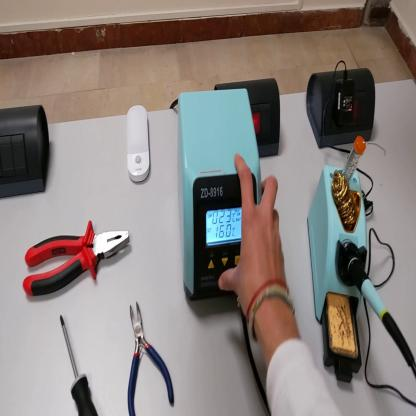hand: (219, 155, 289, 323)
pliers: (21, 228, 130, 300), (119, 301, 176, 415)
screwdriver-: (61, 315, 99, 412)
socket: (308, 63, 380, 149), (215, 71, 284, 152)
welder base: (301, 127, 375, 382)
welder probe tip: (345, 249, 414, 370)
welder station: (178, 88, 263, 303)
